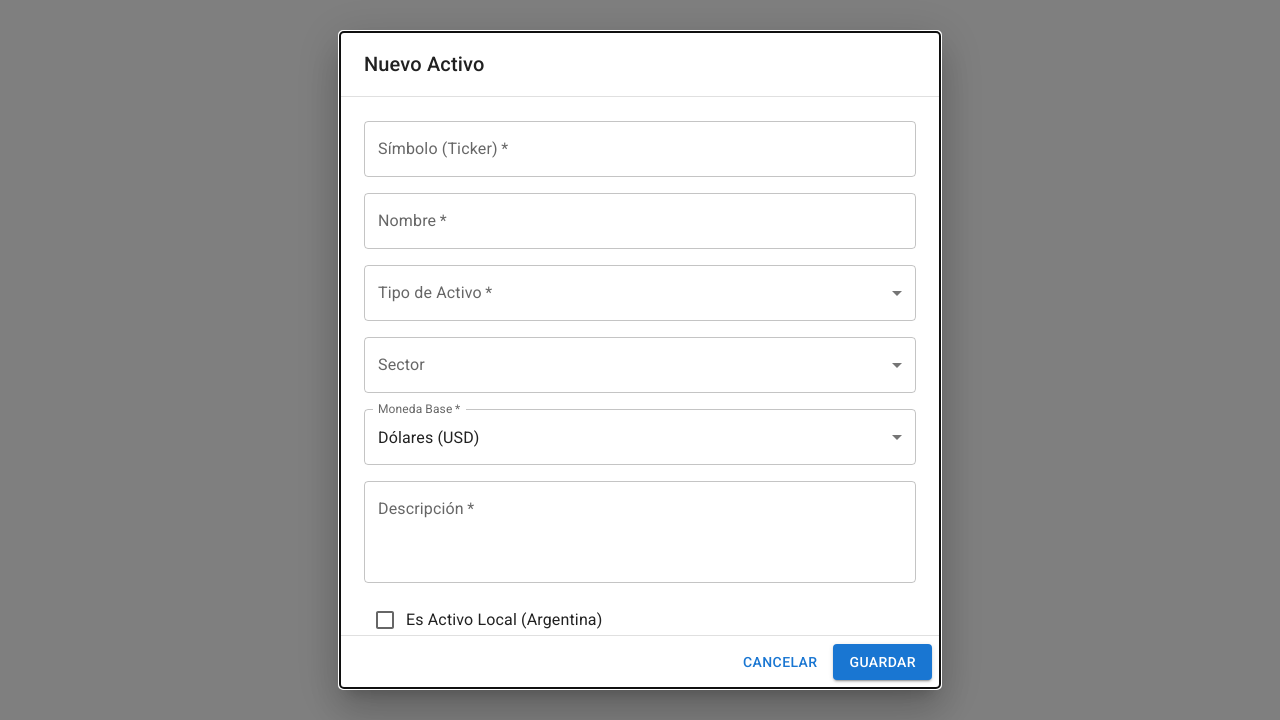
Test: AssetFormDialog › shows error if required fields are missing
The image size is (1280, 720).
Click the button "Guardar": [883, 662] box [834,644,932,680]
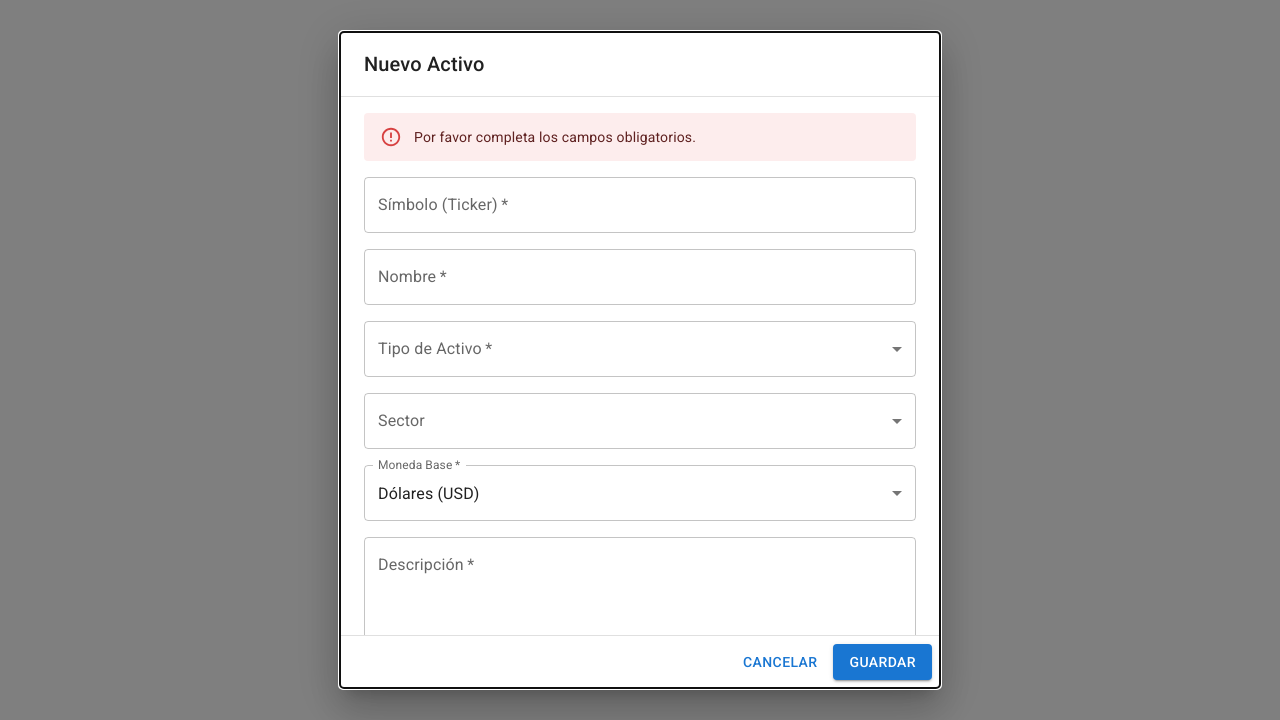
Check: the text "Por favor completa los campos obligatorios." is shown, box [414,129,696,145]
